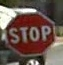stop: (3, 10, 56, 56)
